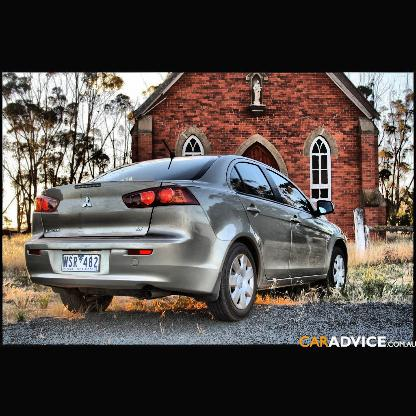Mitsubishi Lancer Sedan 2012: (25, 155, 349, 321)
